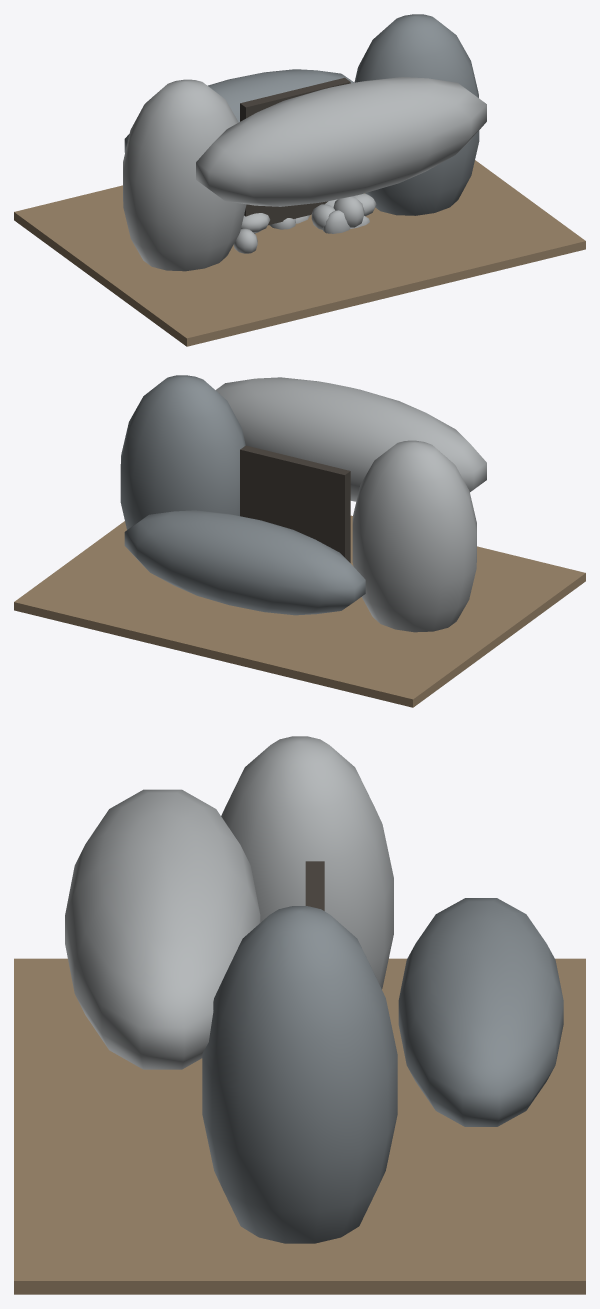
The model's file is cave_landmark.glb.
3 renders of one model, top to bottom at view 1: azimuth 30°, elevation 25°; view 2: azimuth 150°, elevation 25°; view 3: azimuth 270°, elevation 25°, orthographic. The views are drawn at different scales.
Parts seen in each view (by area): view 1: cave_ground, cave_rock_2, cave_rock_0, cave_rock_1, cave_rock_3, cave_dark_mouth, cave_rubble_11, cave_rubble_5, cave_rubble_7, cave_rubble_1; view 2: cave_ground, cave_rock_0, cave_rock_3, cave_rock_2, cave_rock_1, cave_dark_mouth; view 3: cave_ground, cave_rock_1, cave_rock_2, cave_rock_3, cave_rock_0, cave_dark_mouth.
Part boxes in pixels (box(x1,y1,x2,y2)): cave_ground: box(14, 160, 585, 346); cave_rock_2: box(196, 77, 486, 206); cave_rock_0: box(123, 79, 246, 271); cave_rock_1: box(354, 14, 479, 215); cave_rock_3: box(124, 69, 353, 152); cave_dark_mouth: box(240, 77, 350, 225); cave_rubble_11: box(333, 196, 364, 227); cave_rubble_5: box(233, 228, 257, 253); cave_rubble_7: box(322, 210, 350, 233); cave_rubble_1: box(241, 213, 270, 232); cave_ground: box(14, 515, 585, 707); cave_rock_0: box(352, 440, 476, 632); cave_rock_3: box(124, 510, 365, 615); cave_rock_2: box(215, 377, 486, 501); cave_rock_1: box(120, 375, 245, 529); cave_dark_mouth: box(240, 445, 350, 562); cave_ground: box(14, 958, 585, 1294); cave_rock_1: box(202, 906, 397, 1243); cave_rock_2: box(65, 789, 260, 1069); cave_rock_3: box(398, 898, 563, 1126); cave_rock_0: box(221, 736, 393, 989); cave_dark_mouth: box(305, 861, 324, 910).
Bounding box in the file's own units: 4 × 2 × 3.
